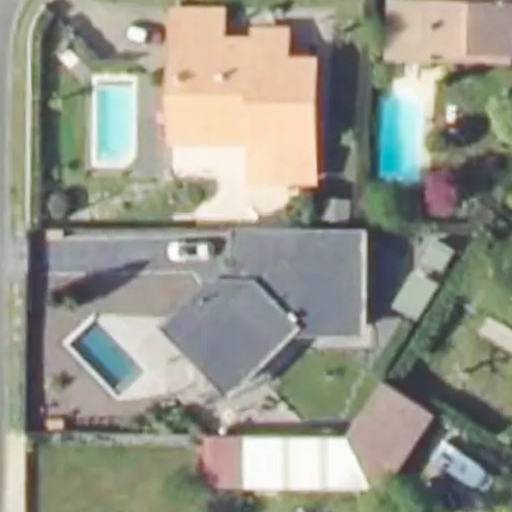pool: (63, 317, 144, 400), (376, 82, 423, 190), (93, 74, 140, 171)
